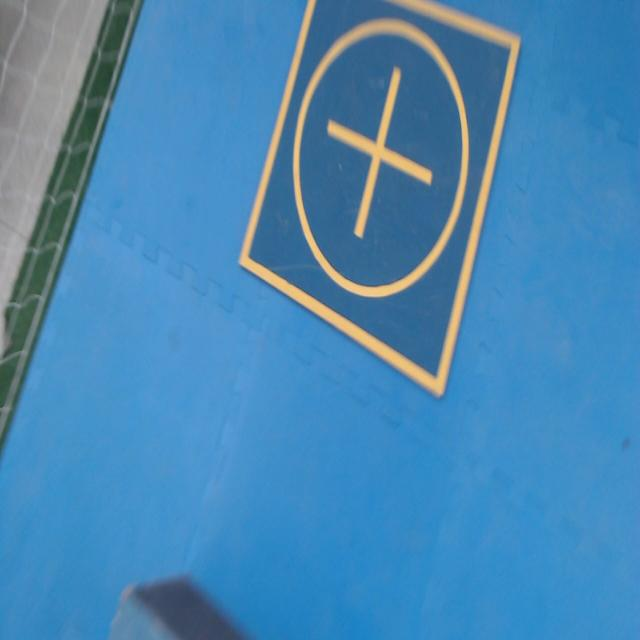base_pouso: (239, 0, 523, 406)
